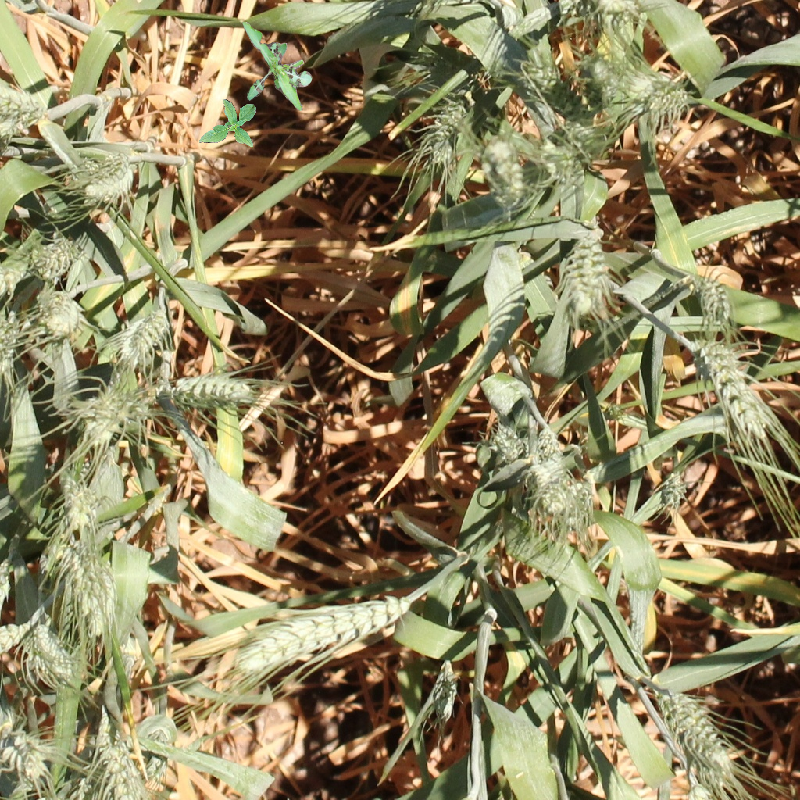spikelet: (234, 595, 408, 678), (691, 336, 771, 442), (657, 685, 738, 776), (60, 539, 118, 635), (559, 223, 612, 318), (420, 94, 473, 166), (166, 370, 255, 411), (97, 734, 152, 800), (1, 706, 50, 780), (481, 134, 528, 210), (527, 436, 574, 512), (80, 387, 138, 446), (117, 304, 172, 366), (23, 621, 76, 682), (515, 35, 561, 99), (627, 71, 690, 116), (35, 286, 86, 340), (81, 154, 136, 204), (58, 474, 104, 532), (31, 234, 84, 281), (536, 137, 587, 185), (691, 272, 734, 327), (1, 75, 45, 126), (565, 1, 644, 26), (559, 479, 595, 530), (488, 423, 526, 465), (431, 663, 459, 720), (1, 307, 23, 379), (658, 469, 687, 509)
weed: (188, 86, 275, 172), (242, 22, 313, 111)
